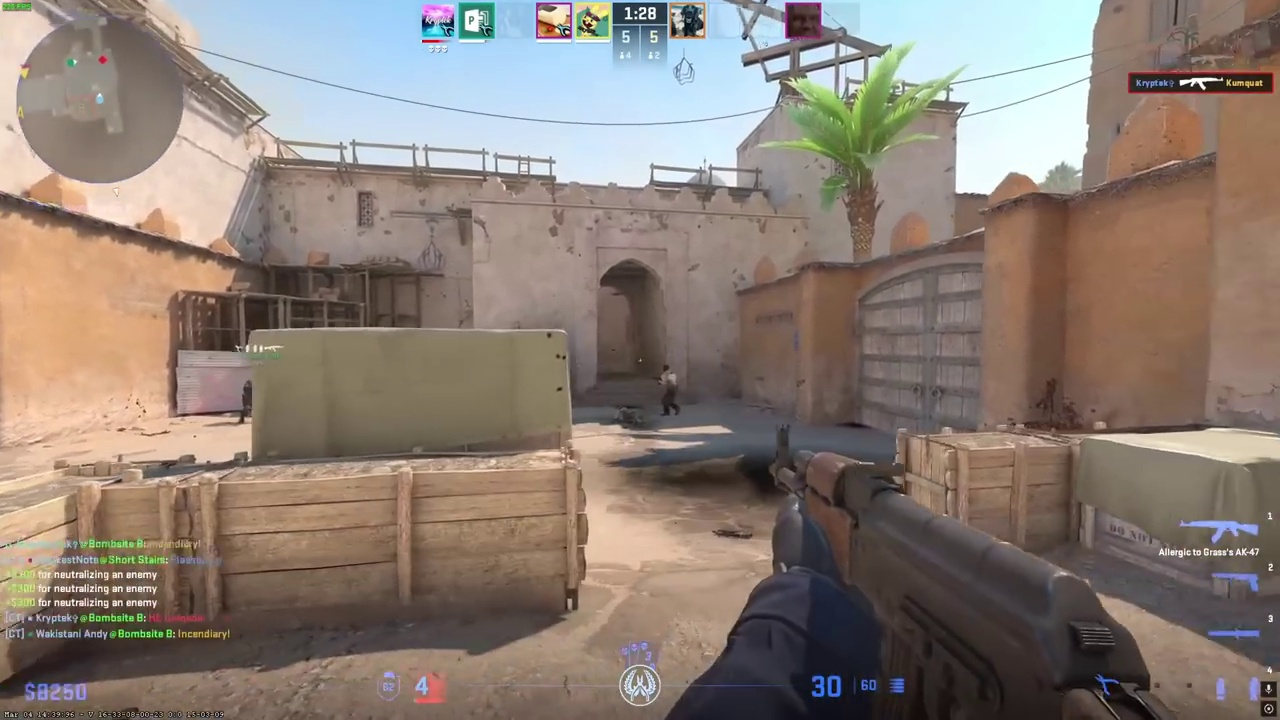CT: (237, 379, 254, 424)
Terrorist: (658, 365, 681, 416)
